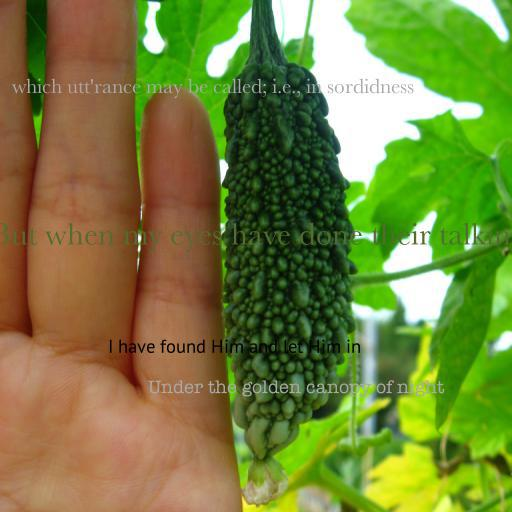American Typewriter: (148, 380, 444, 397)
Baskerville: (0, 222, 512, 253), (12, 78, 414, 99)
PT Sans: (107, 339, 361, 354)
